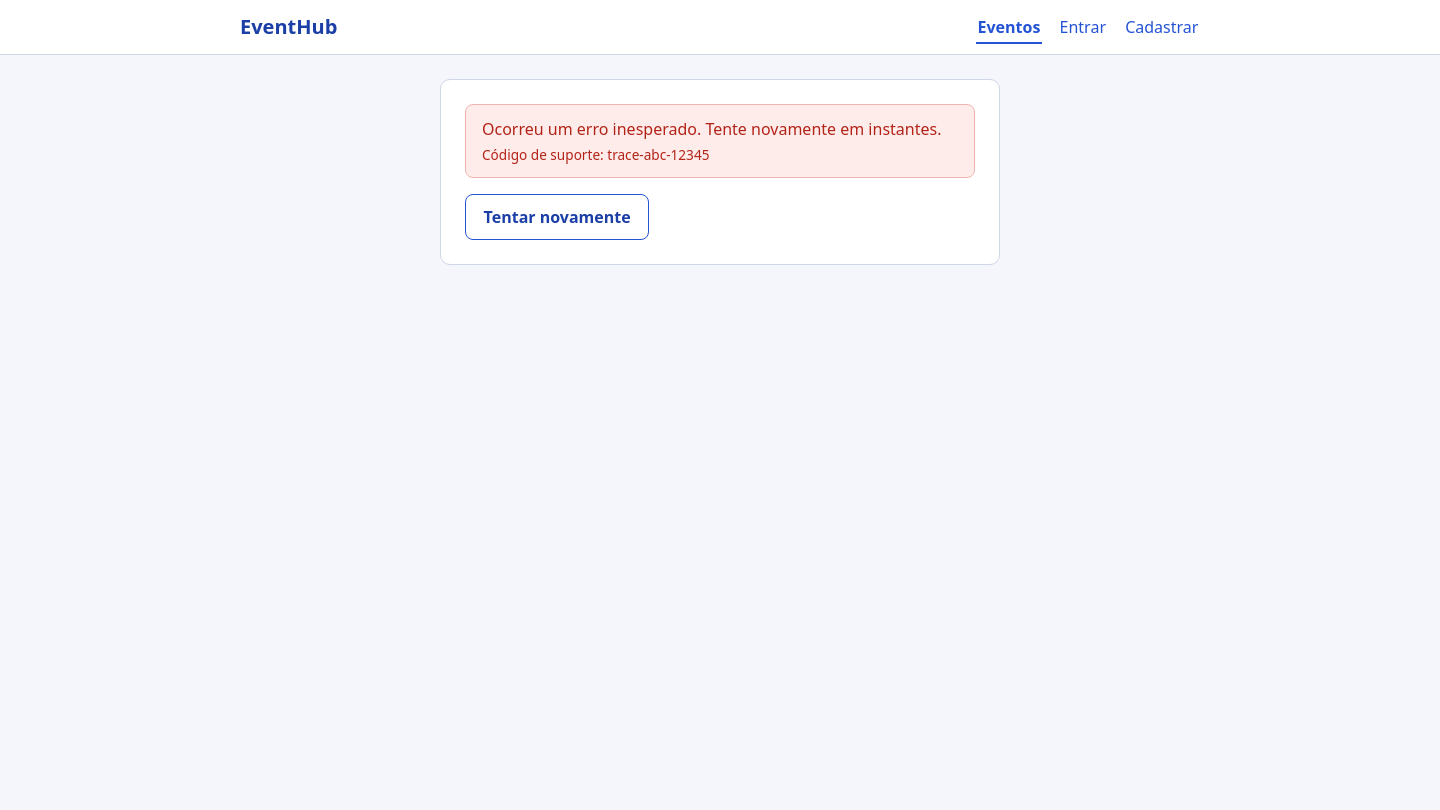
Test: Detalhe do evento (visitante) › erro do servidor mostra mensagem genérica com código de suporte e permite tentar de novo
The image size is (1440, 810).
expect the message shows "Código de suporte: trace-abc-12345": met, box [465,104,975,178]
expect the message does not show "stack trace": met, box [465,104,975,178]
Click the button "Tentar novamente" at coordinates (557, 217), box [465,194,649,240]
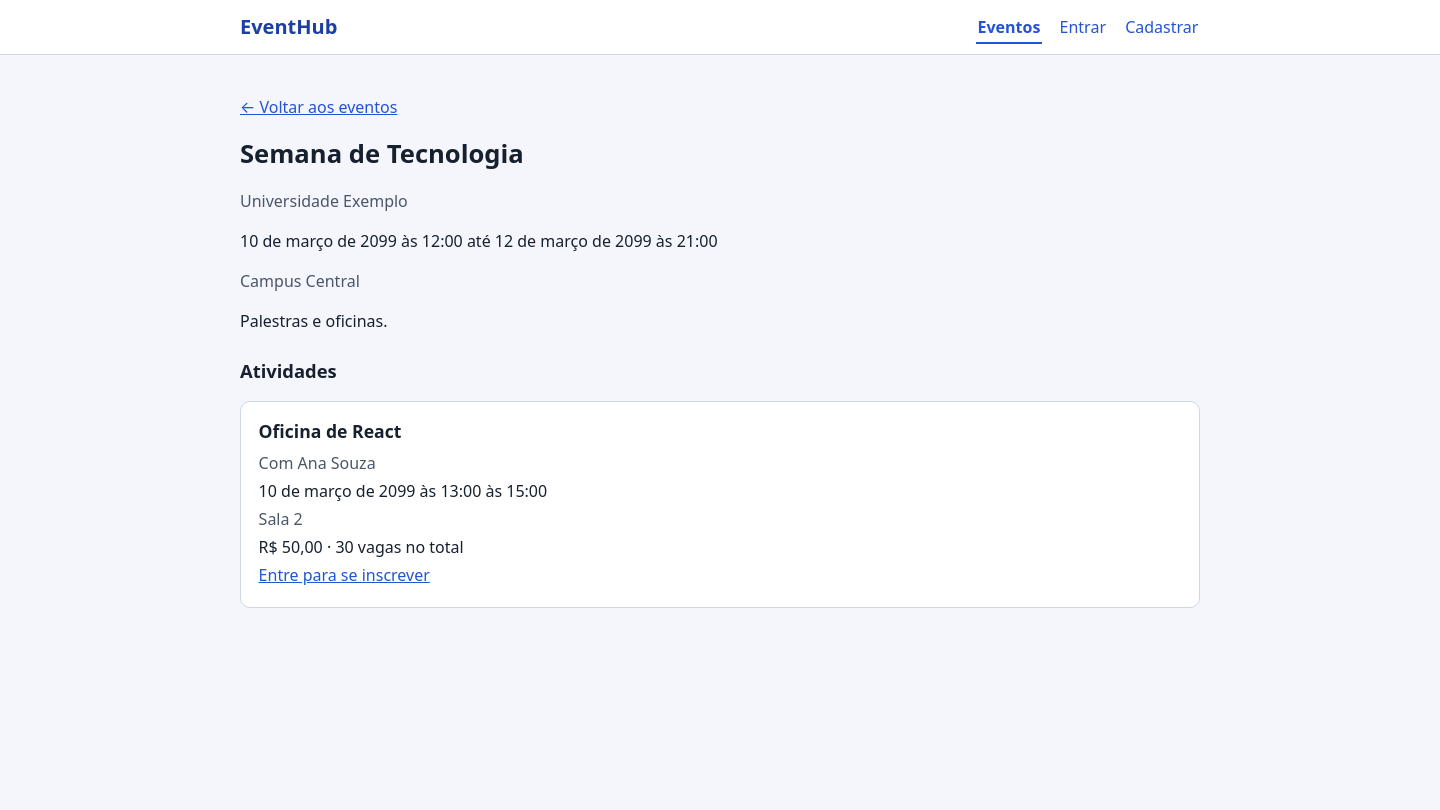
expect the heading "Semana de Tecnologia" is shown: met, box [240,136,524,171]
